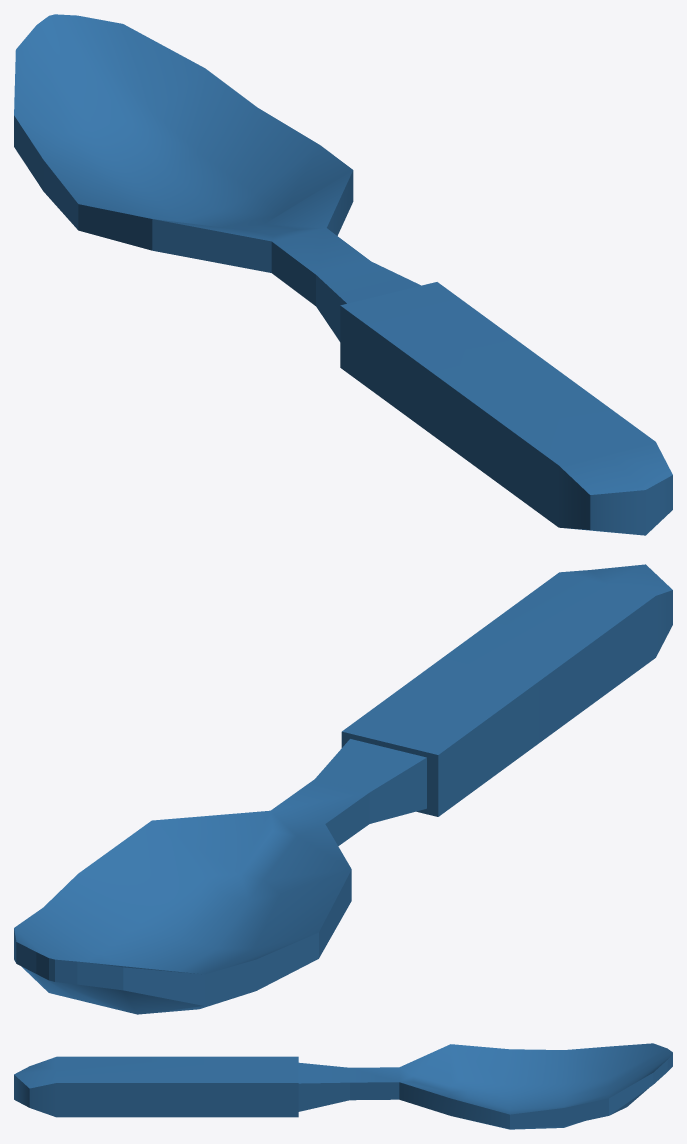
File: cuchara.fbx
3 renders of one model, top to bottom at view 1: azimuth 30°, elevation 25°; view 2: azimuth 150°, elevation 25°; view 3: azimuth 270°, elevation 25°, orthographic. The views are drawn at different scales.
Parts seen in each view (by area): view 1: pCube284; view 2: pCube284; view 3: pCube284.
Part boxes in pixels (box(x1,y1,x2,y2)): pCube284: box(14, 14, 672, 535); pCube284: box(14, 564, 672, 1014); pCube284: box(14, 1043, 672, 1129).
Bounding box in the file's own units: 0.0377 × 0.0165 × 0.1607.
